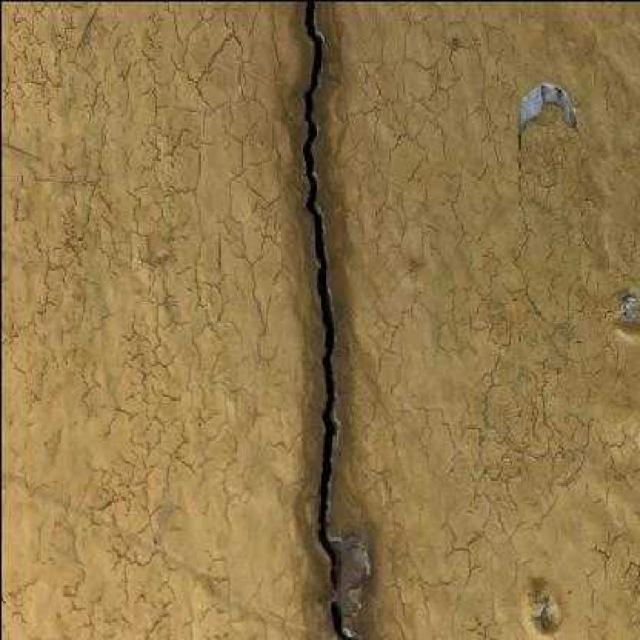D00: (302, 0, 358, 640)
